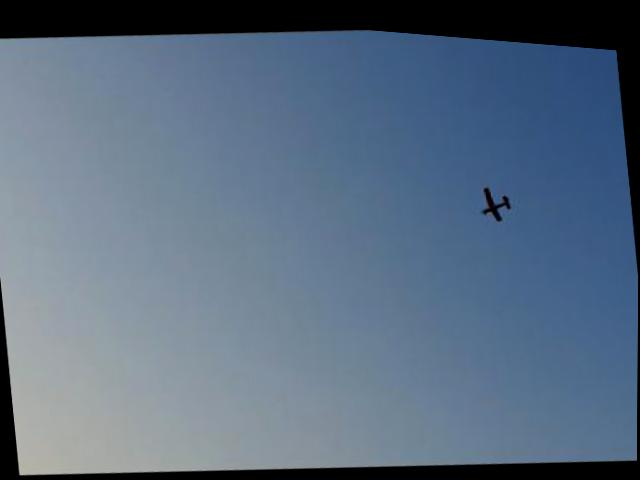uav: (476, 175, 516, 217)
